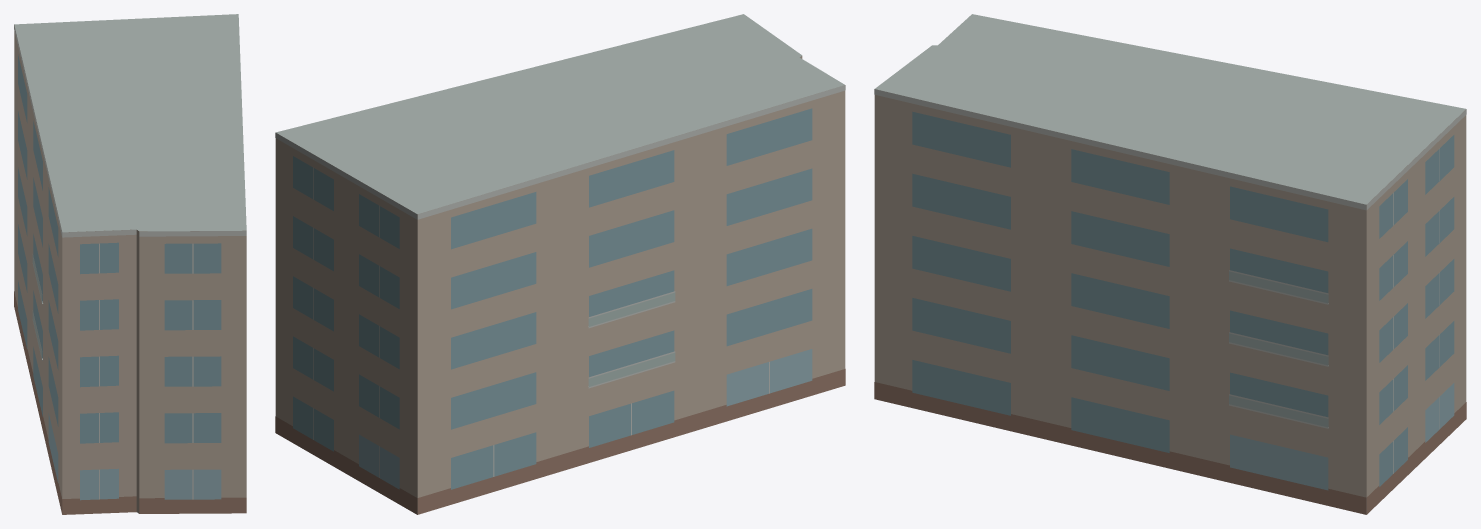
The model's file is survey-upis-33035438.glb.
3 views of the same model, side by side, from view 1: azimuth 30°, elevation 25°; view 2: azimuth 150°, elevation 25°; view 3: azimuth 270°, elevation 25° (orthographic). The views are drawn at different scales.
Visible parts, largest first — view 1: survey-upis-33035438.tmp; view 2: survey-upis-33035438.tmp; view 3: survey-upis-33035438.tmp.
Boxes of the visible parts, x1,y1,x2,y2 form: survey-upis-33035438.tmp: [14, 14, 246, 514]; survey-upis-33035438.tmp: [275, 14, 845, 514]; survey-upis-33035438.tmp: [874, 14, 1466, 514].
Bounding box in the file's own units: 17.48 × 13.25 × 22.93.
